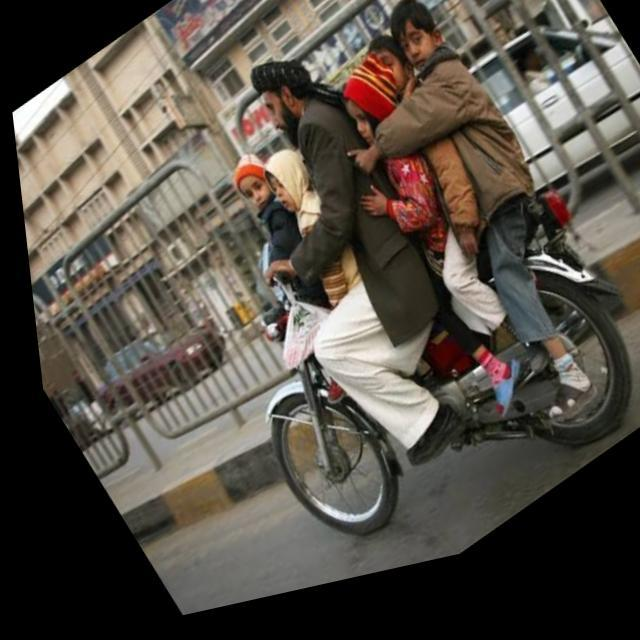Nonhelmet: (249, 49, 321, 152), (384, 0, 448, 75), (260, 140, 326, 210), (235, 149, 276, 216)
